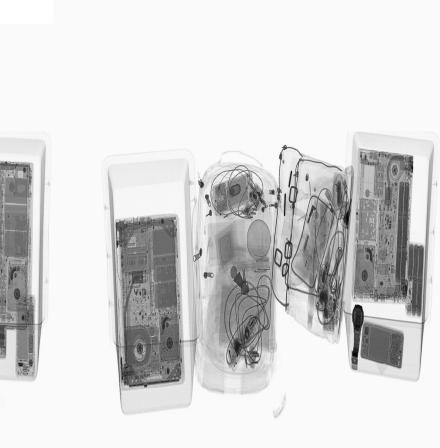Powerbank: (404, 241, 424, 317)
